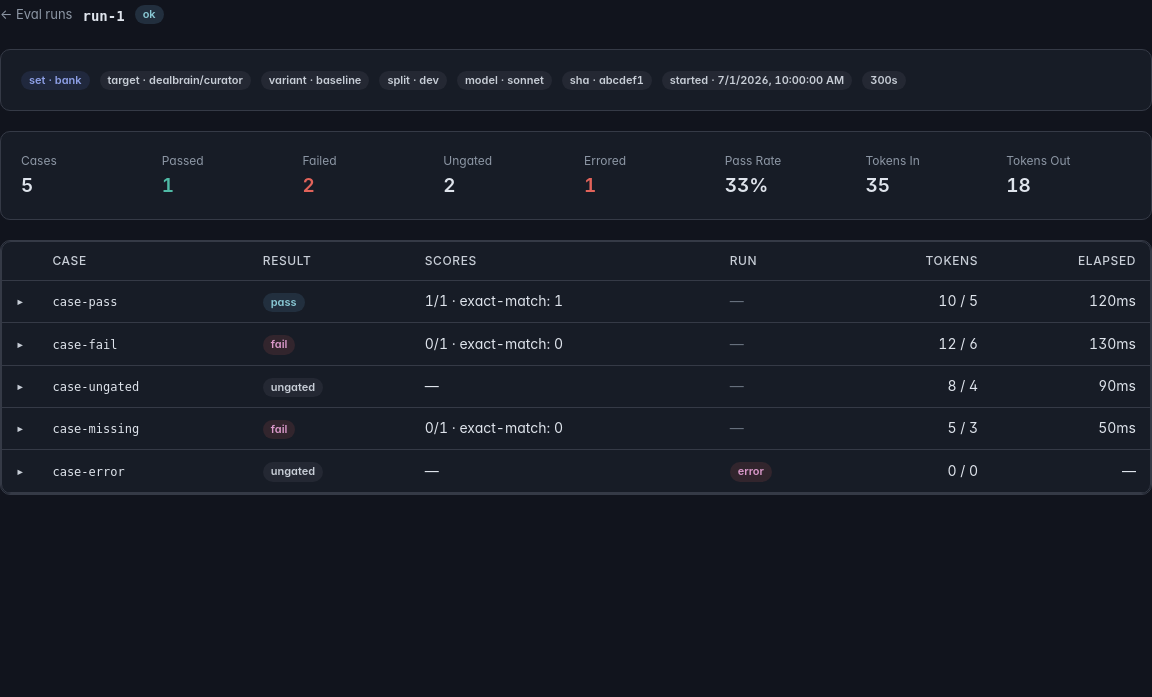
Test case: EvalRunDetailPage › expanding a failing row shows Expected/Actual side-by-side; the errored case shows runError
Click the text "case-fail" at coordinates (85, 345), box [52,338,117,352]
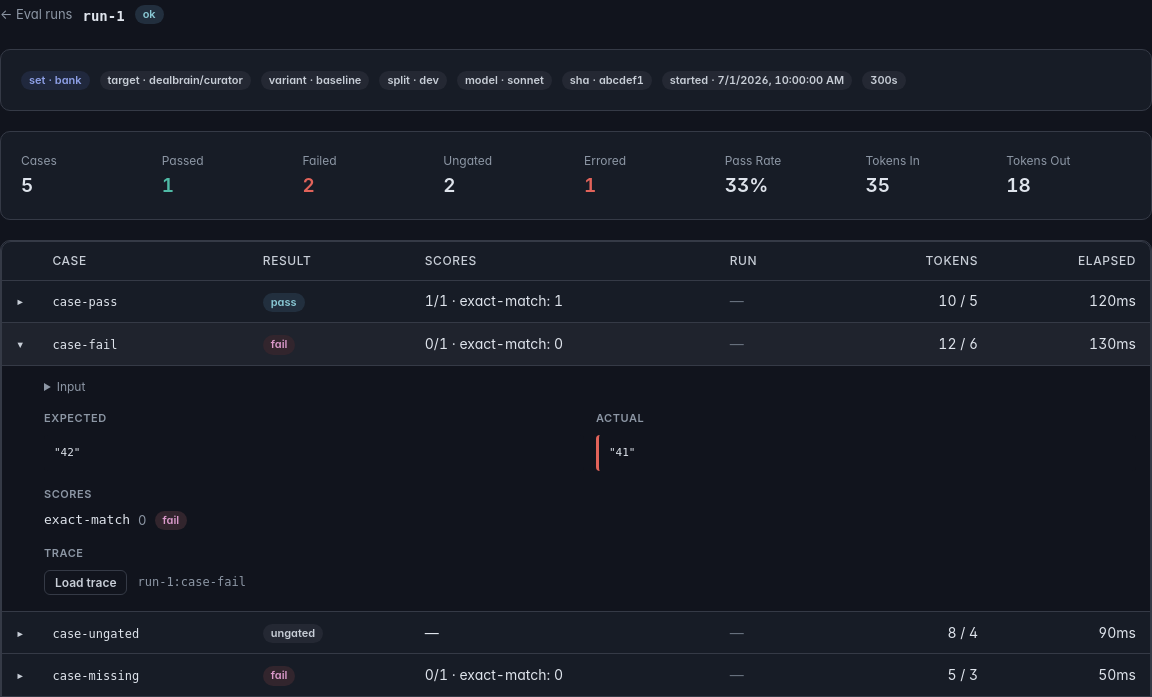
Now the text "Expected" is shown, box [44,411,107,425]
Now the text "\"42\"" is shown, box [44,435,584,471]
Now the text "\"41\"" is shown, box [596,435,1136,471]
Collapse case-fail, expand the errored case.
Click the text "case-fail" at coordinates (85, 345), box [52,338,117,352]
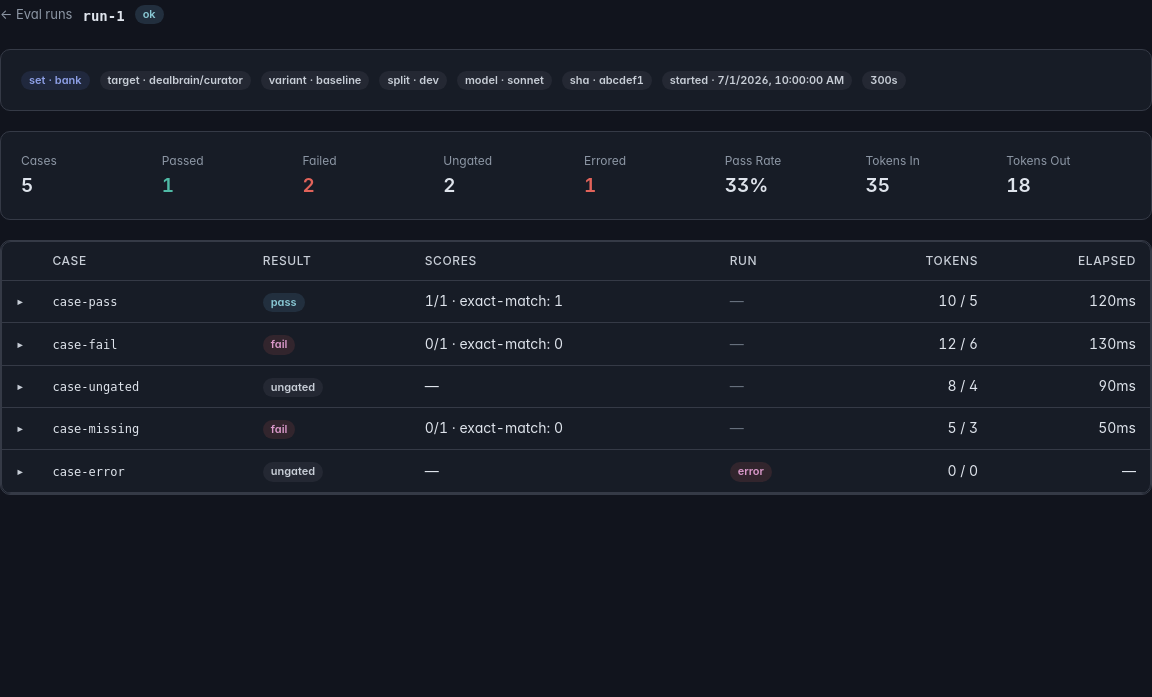
Click the text "case-error" at coordinates (89, 472), box [52,465,125,479]
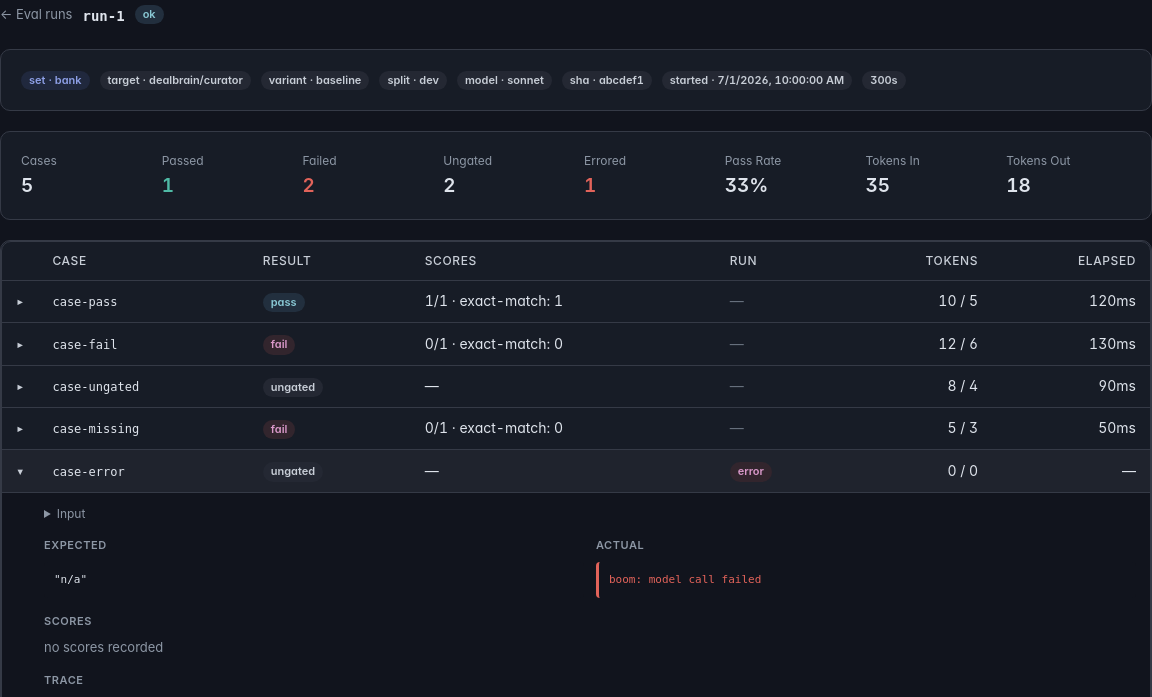
Now the text "boom: model call failed" is shown, box [596,562,1136,598]
Now the text "no scores recorded" is shown, box [44,639,163,655]
